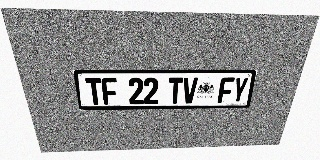2: (128, 78, 144, 104), (144, 78, 158, 104)
F: (217, 77, 235, 103), (101, 78, 118, 105)
T: (85, 78, 103, 105), (168, 77, 183, 104)
V: (182, 77, 198, 103)
Y: (231, 77, 249, 103)
